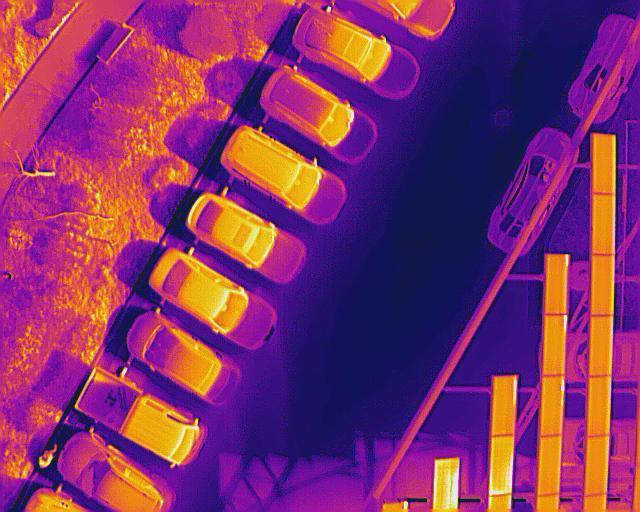No-Anomaly: (584, 437, 611, 495), (589, 315, 614, 377), (539, 374, 564, 436), (545, 253, 569, 316), (542, 314, 566, 377), (587, 375, 611, 437), (592, 192, 615, 255), (591, 255, 614, 316), (538, 434, 561, 494), (593, 134, 615, 192)
Unclassified: (490, 435, 514, 497), (492, 376, 516, 436), (435, 459, 461, 511)
